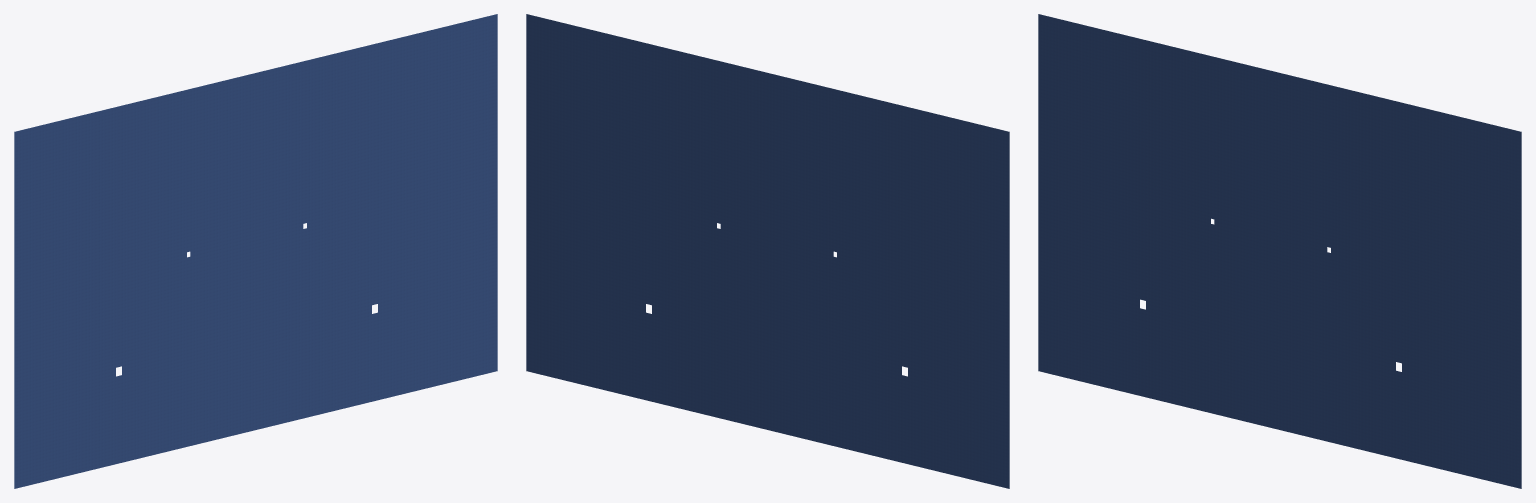
File: floor_1.obj
The picture shows the model from 3 angles, left to right: view 1: azimuth 30°, elevation 25°; view 2: azimuth 150°, elevation 25°; view 3: azimuth 330°, elevation 25°; orthographic projection.
Parts seen in each view (by area): view 1: floor_1; view 2: floor_1; view 3: floor_1.
Part boxes in pixels (x1=…): floor_1: x1=14, y1=14, x2=497, y2=488; floor_1: x1=526, y1=14, x2=1009, y2=488; floor_1: x1=1038, y1=14, x2=1521, y2=488.
Size of the model in its own units: 147 by 104 by 0.1.
